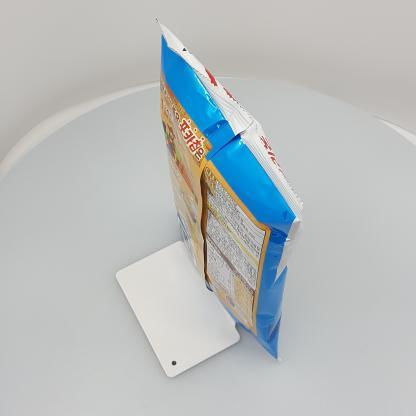Plastic Packaging: (148, 13, 298, 366)
